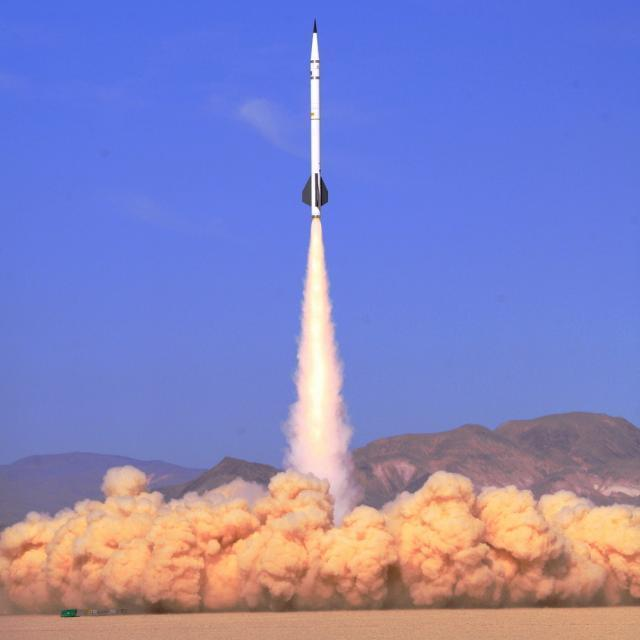missile: (300, 20, 327, 223)
